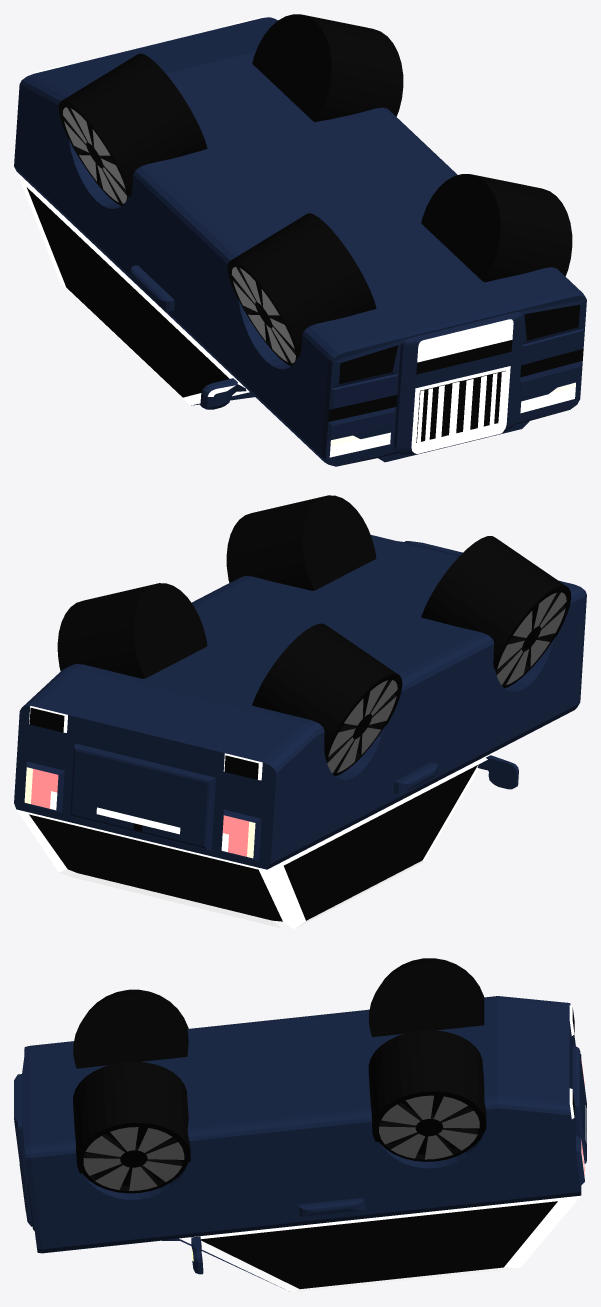
The model's file is Suv Knonced over.glb.
3 views of the same model, one above another, from view 1: azimuth 30°, elevation 25°; view 2: azimuth 150°, elevation 25°; view 3: azimuth 270°, elevation 25° (orthographic). The views are drawn at different scales.
Parts seen in each view (by area): view 1: wheel.001; view 2: wheel.001; view 3: wheel.001.
Part boxes in pixels (x1,y1,x2,y2): wheel.001: (14,14,586,466); wheel.001: (14,495,586,929); wheel.001: (14,958,586,1292).
Bounding box in the file's own units: 3.57 × 2.95 × 6.18.
